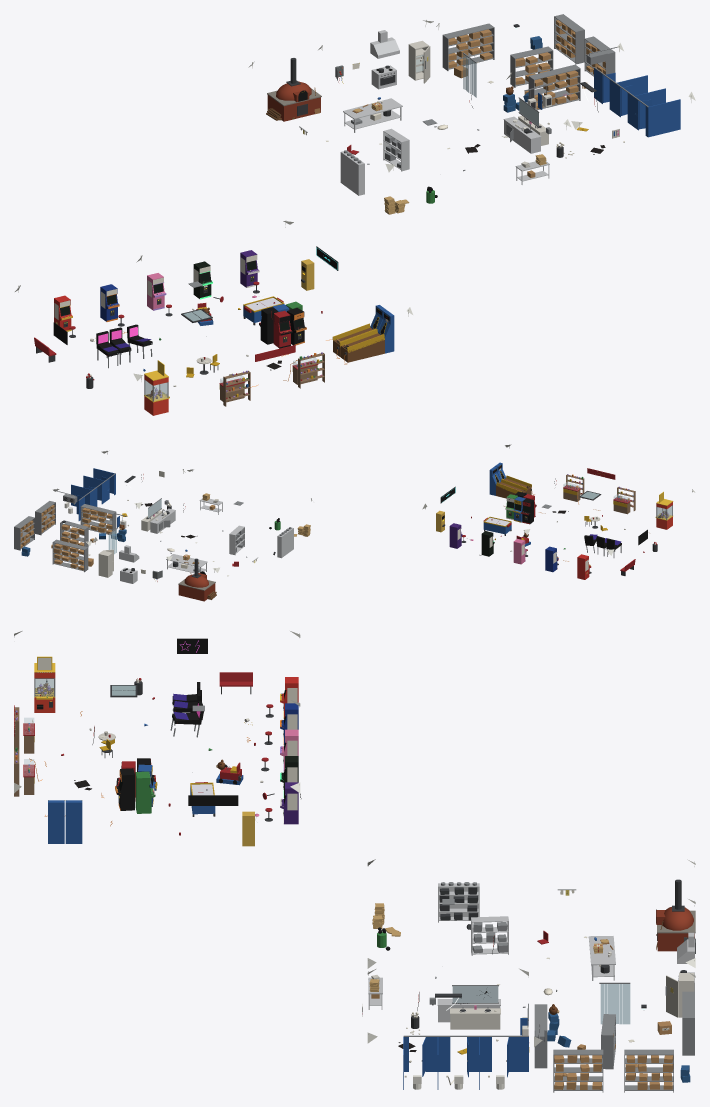
The model's file is v2_diversao.glb.
3 renders of one model, top to bottom at view 1: azimuth 30°, elevation 25°; view 2: azimuth 150°, elevation 25°; view 3: azimuth 270°, elevation 25°, orthographic. The views are drawn at different scales.
Visible parts, largest first — view 1: Cabine_03, Forno_Pizza_Detalhes, Estante_Fria_01, Estante_Fria_01_Itens, Estante_Fria_04, Estante_Fria_04_Itens, Ilha_Inox, Cabine_01, Estante_Fria_02, Prateleira_Panelas, Pia_Cozinha, Estante_Fria_Centro (+4 smaller); view 2: Estante_Fria_01, Estante_Fria_04, Estante_Fria_01_Itens, Forno_Pizza_Detalhes, Estante_Fria_04_Itens, Cabine_01, Cabine_02, Estante_Fria_02, Estante_Fria_03, Forno_Pizza, Prateleira_Panelas, Cabine_03 (+14 smaller); view 3: Cabine_01, Forno_Pizza_Detalhes, Cortina_PVC, Cabine_02, Estante_Fria_03, Bancada_Pias, Estante_Fria_02_Itens, Estante_Fria_03_Itens, Estante_Fria_02, Cabine_03, Prateleira_Panelas, Estante_Fria_01 (+9 smaller).
Part boxes in pixels (left/top/right/bottom): Cabine_03: left=633, top=95, right=680, bottom=137; Forno_Pizza_Detalhes: left=267, top=58, right=321, bottom=116; Estante_Fria_01: left=442, top=23, right=494, bottom=70; Estante_Fria_01_Itens: left=448, top=29, right=492, bottom=68; Estante_Fria_04: left=528, top=64, right=580, bottom=110; Estante_Fria_04_Itens: left=534, top=70, right=578, bottom=109; Ilha_Inox: left=343, top=98, right=402, bottom=129; Cabine_01: left=593, top=67, right=647, bottom=112; Estante_Fria_02: left=554, top=14, right=584, bottom=64; Prateleira_Panelas: left=340, top=151, right=364, bottom=195; Pia_Cozinha: left=503, top=116, right=541, bottom=153; Estante_Fria_Centro: left=510, top=46, right=553, bottom=87; Estante_Fria_01: left=52, top=539, right=88, bottom=572; Estante_Fria_04: left=80, top=504, right=116, bottom=534; Estante_Fria_01_Itens: left=53, top=543, right=83, bottom=570; Forno_Pizza_Detalhes: left=178, top=558, right=215, bottom=590; Estante_Fria_04_Itens: left=82, top=508, right=112, bottom=534; Cabine_01: left=64, top=484, right=93, bottom=520; Cabine_02: left=83, top=475, right=105, bottom=506; Estante_Fria_02: left=14, top=516, right=34, bottom=550; Estante_Fria_03: left=35, top=501, right=55, bottom=535; Forno_Pizza: left=178, top=583, right=215, bottom=601; Prateleira_Panelas: left=277, top=527, right=293, bottom=558; Cabine_03: left=93, top=468, right=115, bottom=501; Cabine_01: left=479, top=1035, right=528, bottom=1089; Forno_Pizza_Detalhes: left=656, top=879, right=695, bottom=940; Cortina_PVC: left=599, top=982, right=630, bottom=1024; Cabine_02: left=437, top=1035, right=479, bottom=1089; Estante_Fria_03: left=553, top=1049, right=603, bottom=1092; Bancada_Pias: left=450, top=1008, right=500, bottom=1029; Estante_Fria_02_Itens: left=625, top=1055, right=673, bottom=1089; Estante_Fria_03_Itens: left=554, top=1055, right=601, bottom=1089; Estante_Fria_02: left=624, top=1049, right=673, bottom=1092; Cabine_03: left=403, top=1035, right=437, bottom=1089; Prateleira_Panelas: left=438, top=883, right=479, bottom=922; Estante_Fria_01: left=682, top=991, right=694, bottom=1055.
Size of what is drawn, in the model's own units: 45.79 by 3.33 by 32.78.
